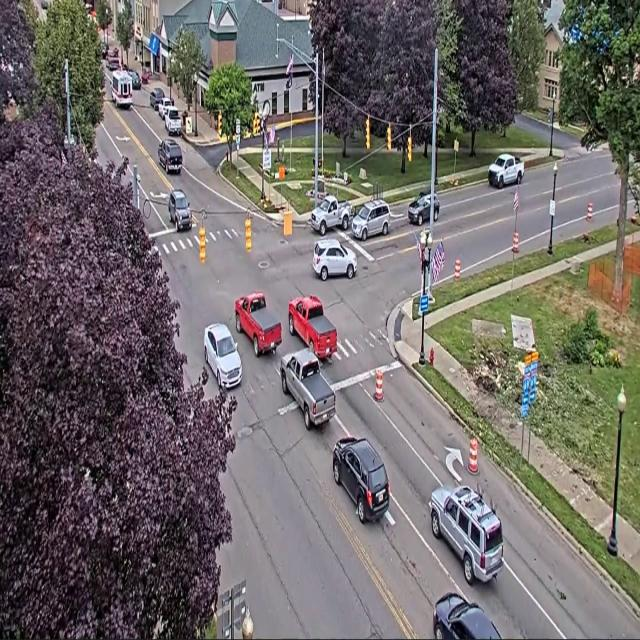car: (429, 486, 503, 584), (333, 437, 390, 523), (433, 592, 500, 639), (204, 324, 242, 388), (313, 239, 356, 280), (352, 200, 390, 240), (168, 190, 192, 231), (158, 139, 182, 174), (408, 192, 430, 225), (164, 106, 181, 135), (158, 96, 173, 119), (150, 88, 164, 111), (107, 54, 121, 71), (128, 71, 141, 89), (101, 41, 108, 59)
traffic signal: (244, 216, 252, 252), (199, 226, 205, 262), (386, 124, 392, 151), (253, 112, 259, 135), (366, 117, 370, 149), (408, 136, 412, 162), (218, 112, 221, 136), (548, 107, 552, 124)
truck: (280, 349, 335, 430), (288, 296, 337, 359), (235, 292, 281, 356), (310, 195, 352, 236), (488, 154, 524, 188)
